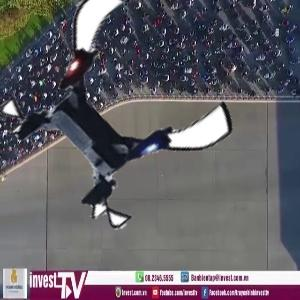drone: (11, 6, 214, 209)
